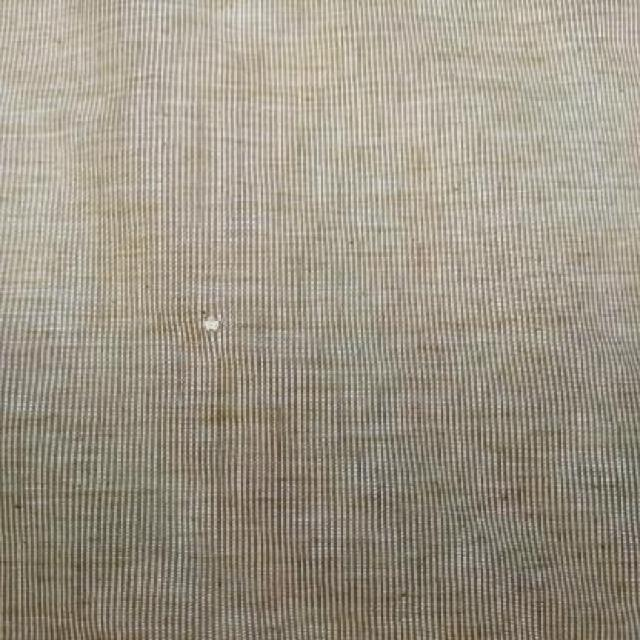seam: (188, 298, 230, 338)
